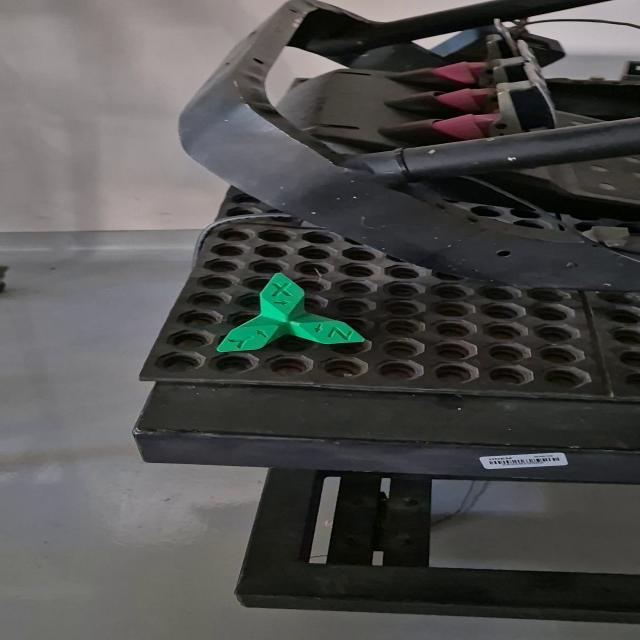objects: (216, 272, 367, 353)
